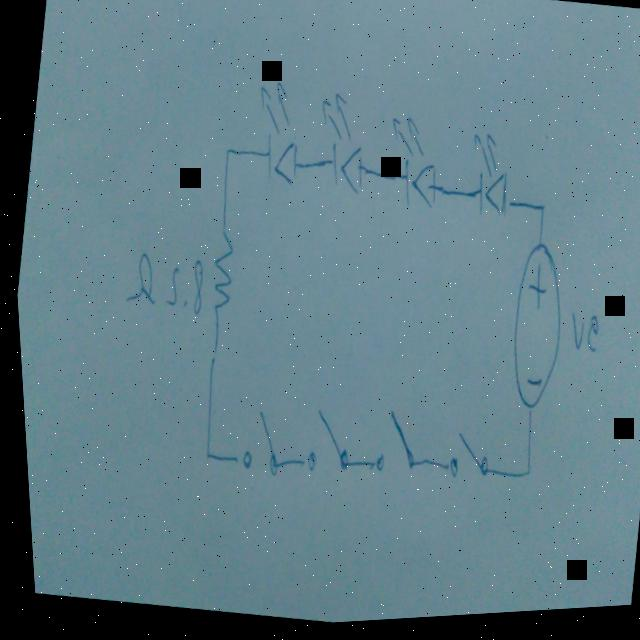diode: (304, 89, 379, 210), (372, 112, 449, 226), (242, 73, 312, 197), (457, 124, 519, 231)
junction: (512, 459, 533, 494), (530, 201, 549, 230), (218, 145, 235, 174), (194, 445, 212, 472)
resistor: (195, 228, 240, 354)
source: (493, 243, 575, 419)
switch: (225, 404, 284, 488), (362, 404, 420, 485), (294, 409, 354, 486), (439, 425, 491, 490)
text: (117, 245, 207, 328), (561, 310, 601, 365)
